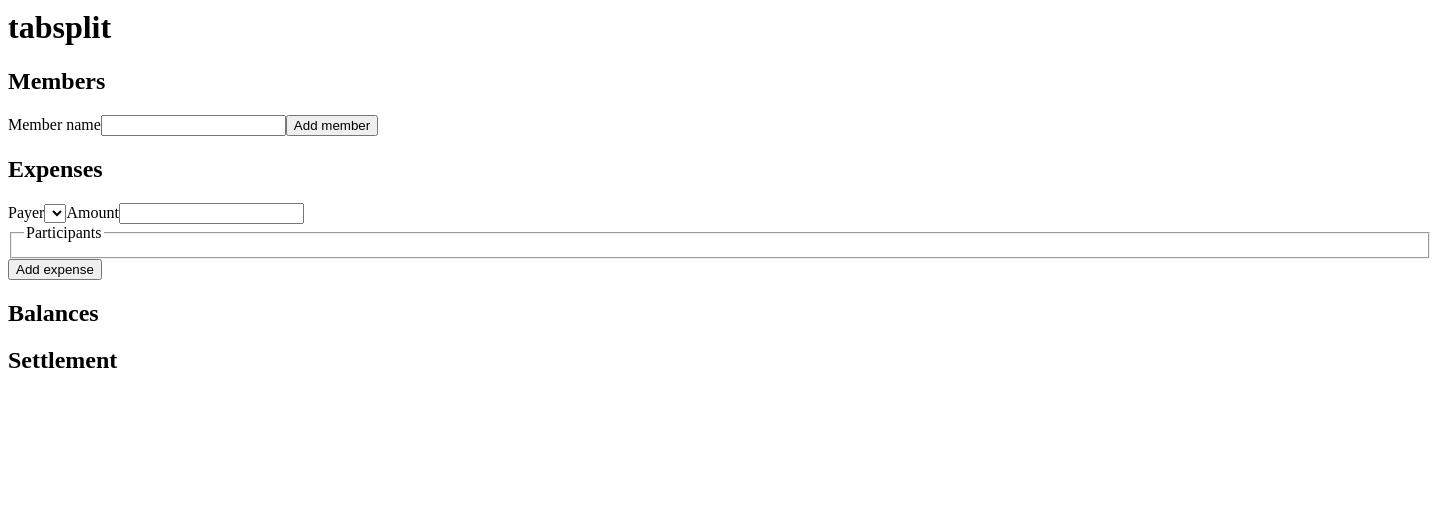
Test case: App › shows the domain message when no participant is picked
Type "Ann" into the field labelled "Member name" at [193, 125], box [101,115,286,136]
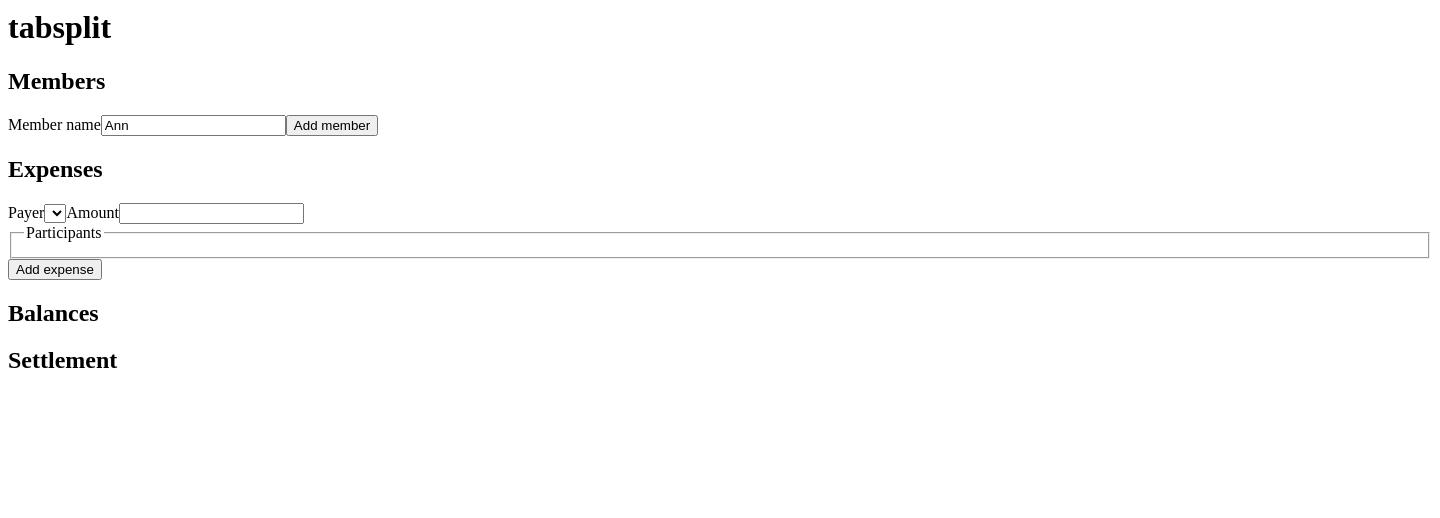
Click the button "Add member" at [332, 125], box [286,115,378,136]
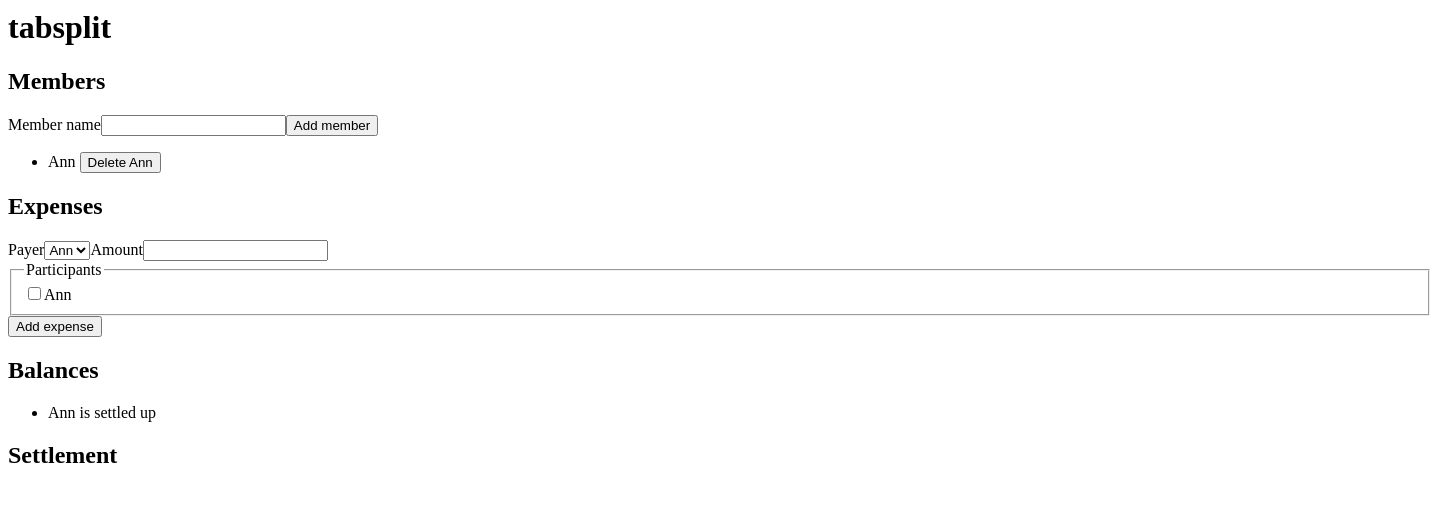
Select "Ann" in the dropdown labelled "Payer" at [67, 250], box [44,241,90,260]
Type "5" into the field labelled "Amount" at [235, 250], box [143,240,328,261]
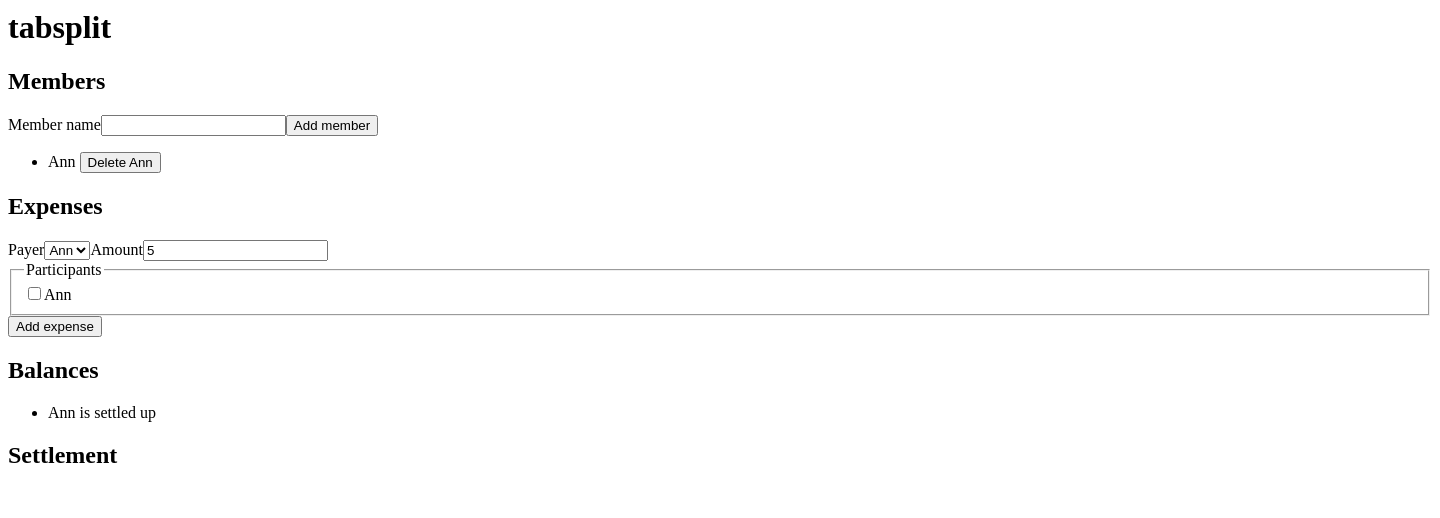
Click the button "Add expense" at [55, 327], box [8,316,102,337]
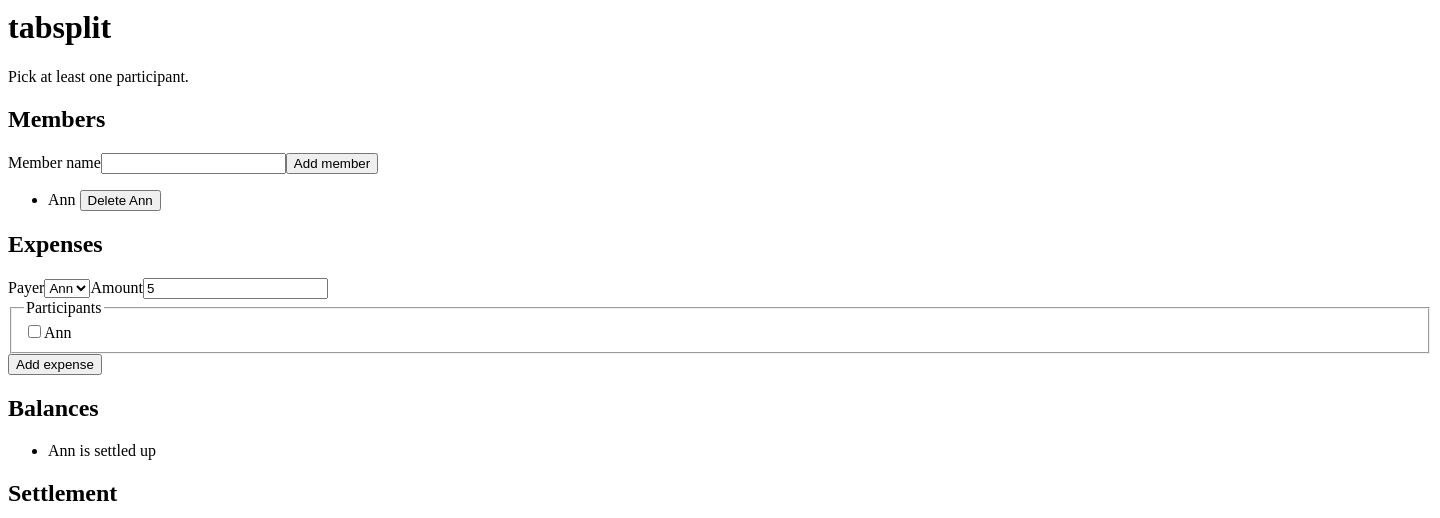
Now the message reads "Pick at least one participant.", box [8,68,189,85]
